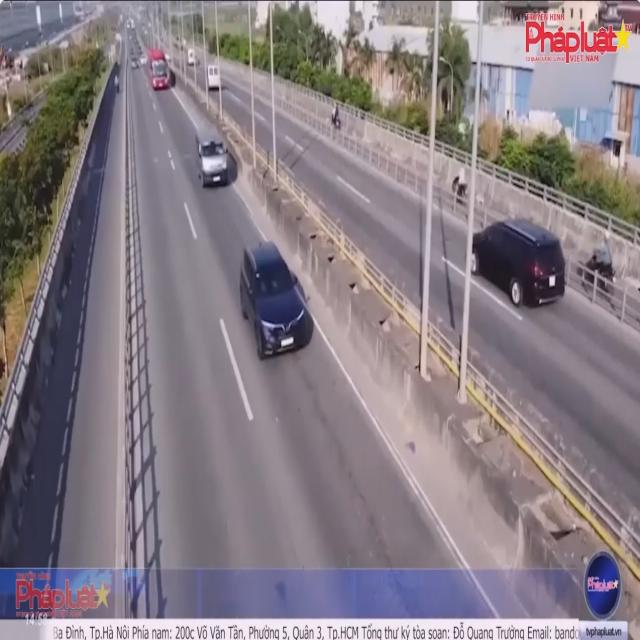bus: (149, 53, 172, 92)
car: (474, 220, 568, 309), (243, 243, 315, 357), (201, 139, 238, 188)
motorbike: (582, 230, 617, 278)
